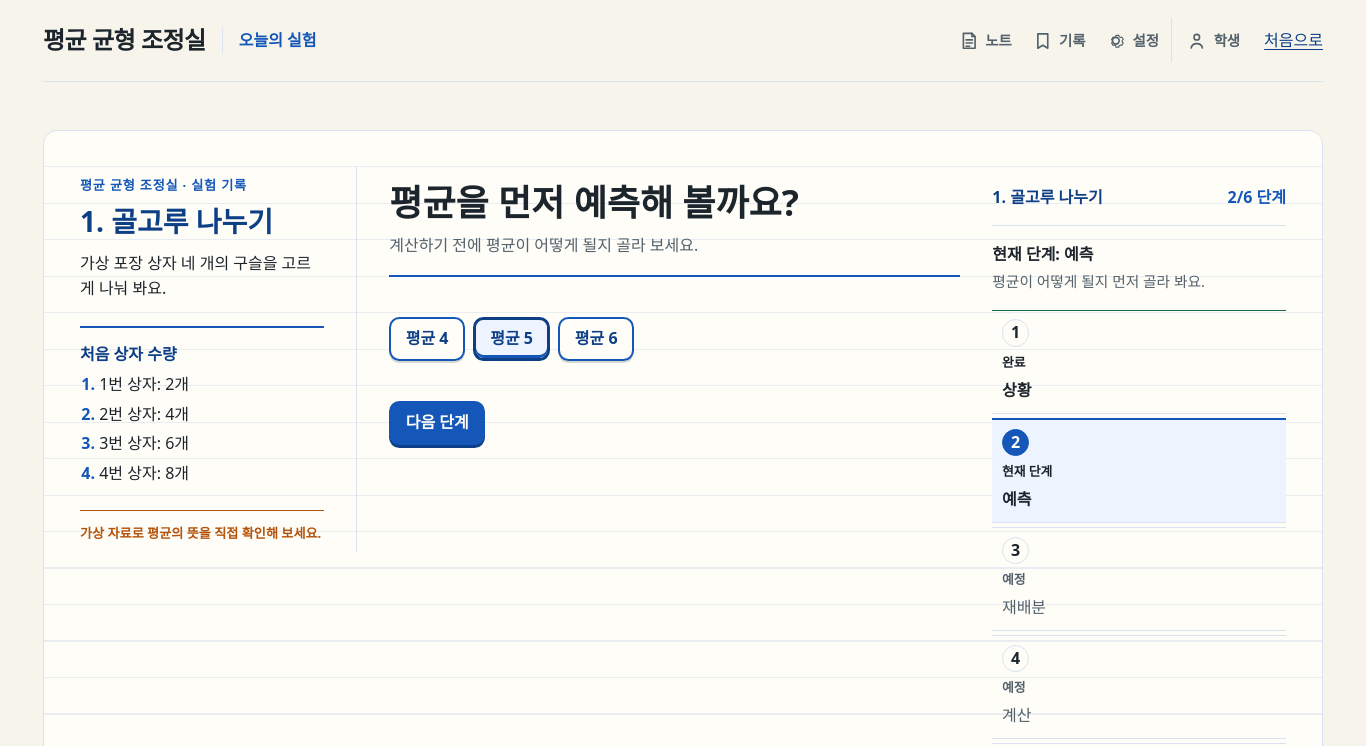
Scenario: learning router › opens redistribution after a balance prediction while later stages stay locked
The image size is (1366, 746).
Click the button "다음 단계" at (437, 423), box [389,401,485,445]
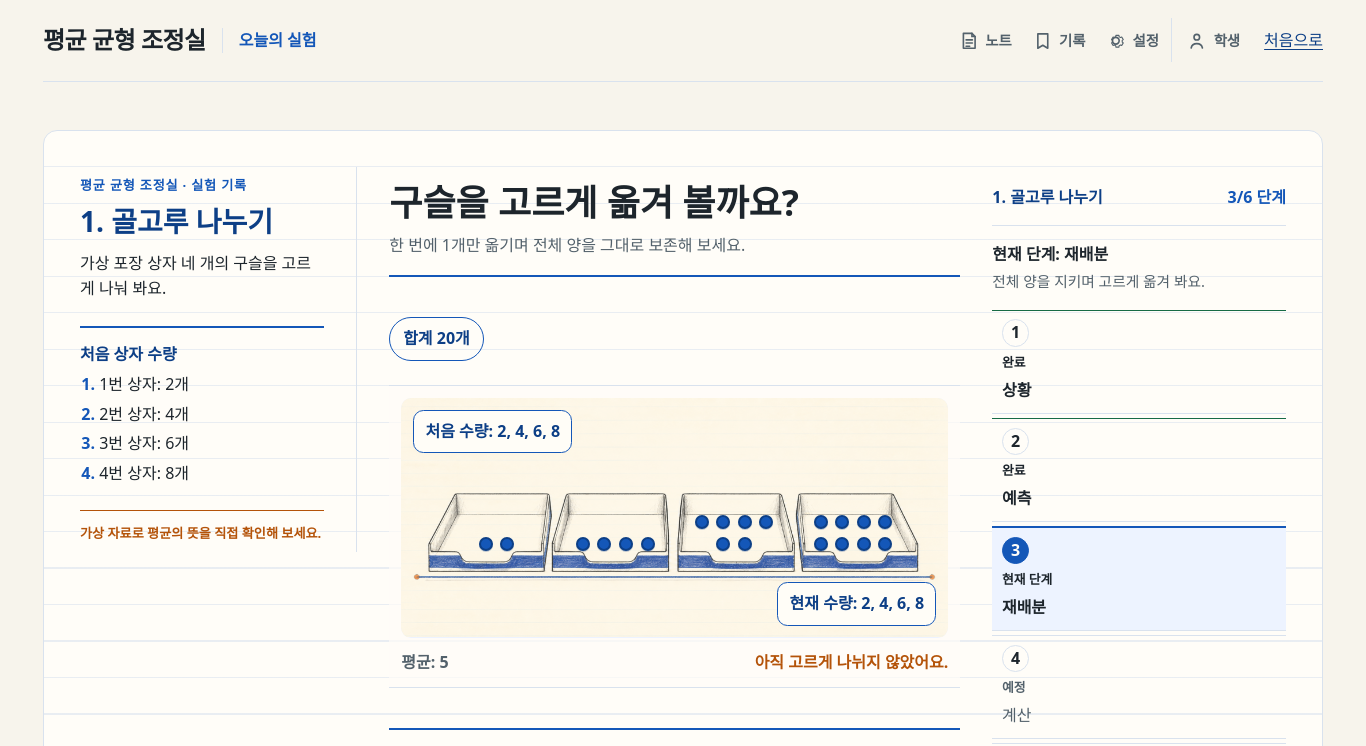
Check: the heading "구슬을 고르게 옮겨 볼까요?" is shown, box [389,178,799,227]
